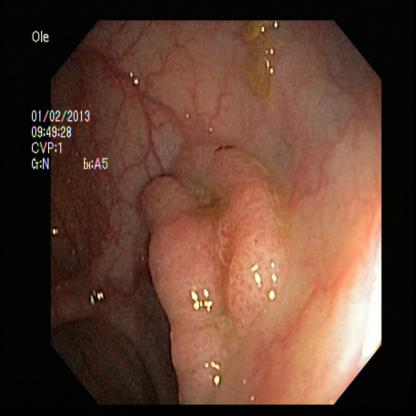Labels: (30, 23, 108, 174)
Polyps: (134, 169, 228, 323), (227, 147, 297, 340)
